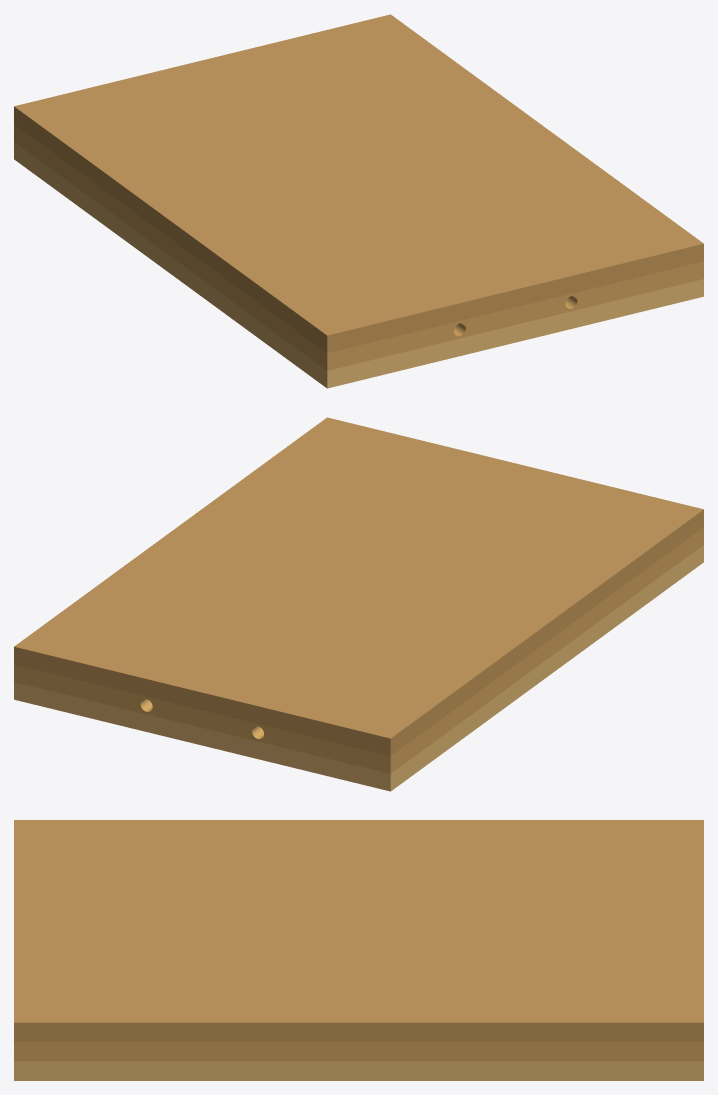
File: panel_1_4.obj
3 views of the same model, one above another, from view 1: azimuth 30°, elevation 25°; view 2: azimuth 150°, elevation 25°; view 3: azimuth 270°, elevation 25° (orthographic). The views are drawn at different scales.
Parts seen in each view (by area): view 1: L01-C, L01-B, L01-A; view 2: L01-C, L01-B, L01-A; view 3: L01-C, L01-A, L01-B.
Part boxes in pixels (x1=…): L01-C: x1=14, y1=14, x2=703, y2=353; L01-B: x1=14, y1=124, x2=703, y2=370; L01-A: x1=14, y1=142, x2=703, y2=388; L01-C: x1=14, y1=417, x2=703, y2=756; L01-B: x1=14, y1=527, x2=703, y2=773; L01-A: x1=14, y1=545, x2=703, y2=791; L01-C: x1=14, y1=820, x2=703, y2=1041; L01-A: x1=14, y1=1061, x2=703, y2=1080; L01-B: x1=14, y1=1042, x2=703, y2=1061.
Bounding box in the file's own units: 625 × 84 × 900.
